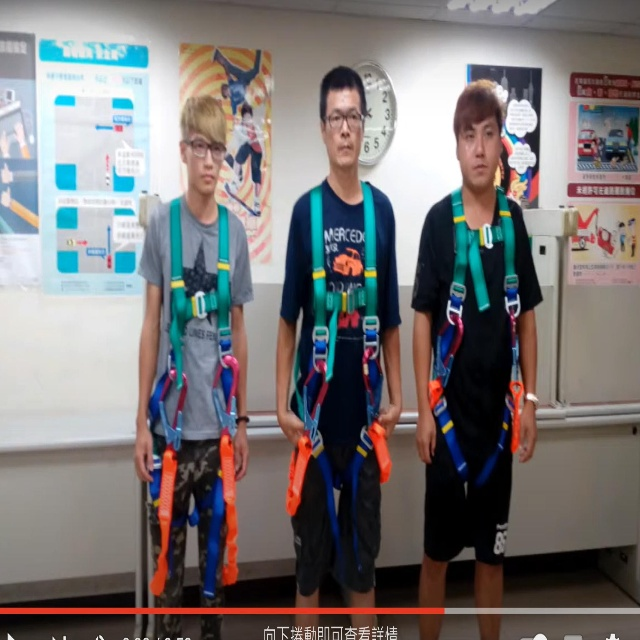Arnes_seguridad: (283, 179, 392, 557), (145, 192, 238, 597), (428, 186, 522, 508)
